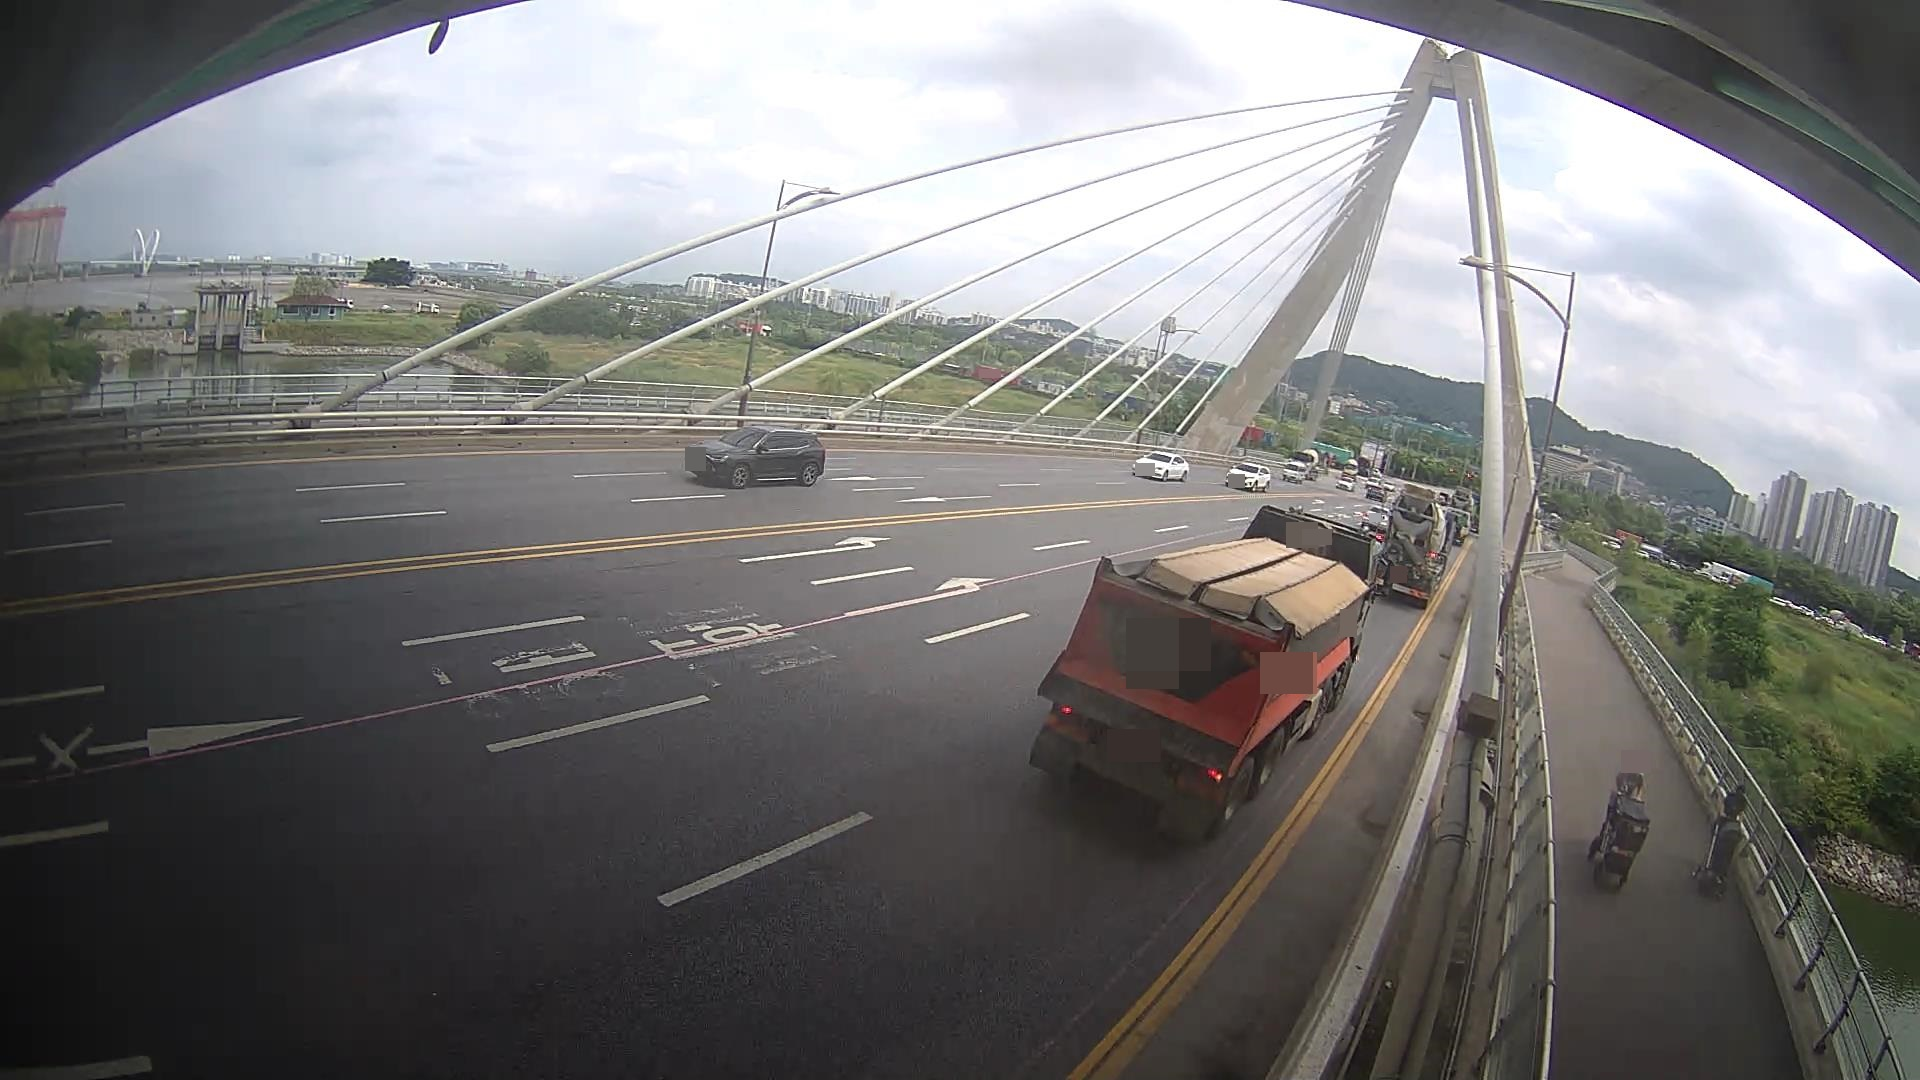정상차량: (1030, 505, 1387, 845)
